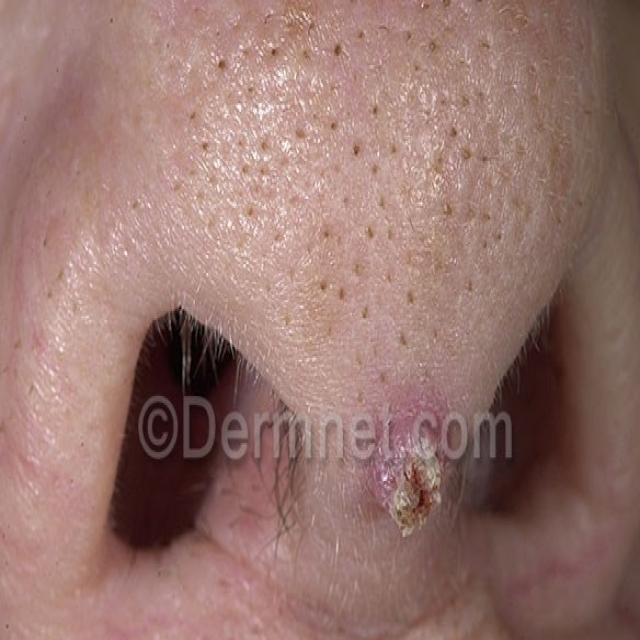Warts: (356, 380, 462, 617)
